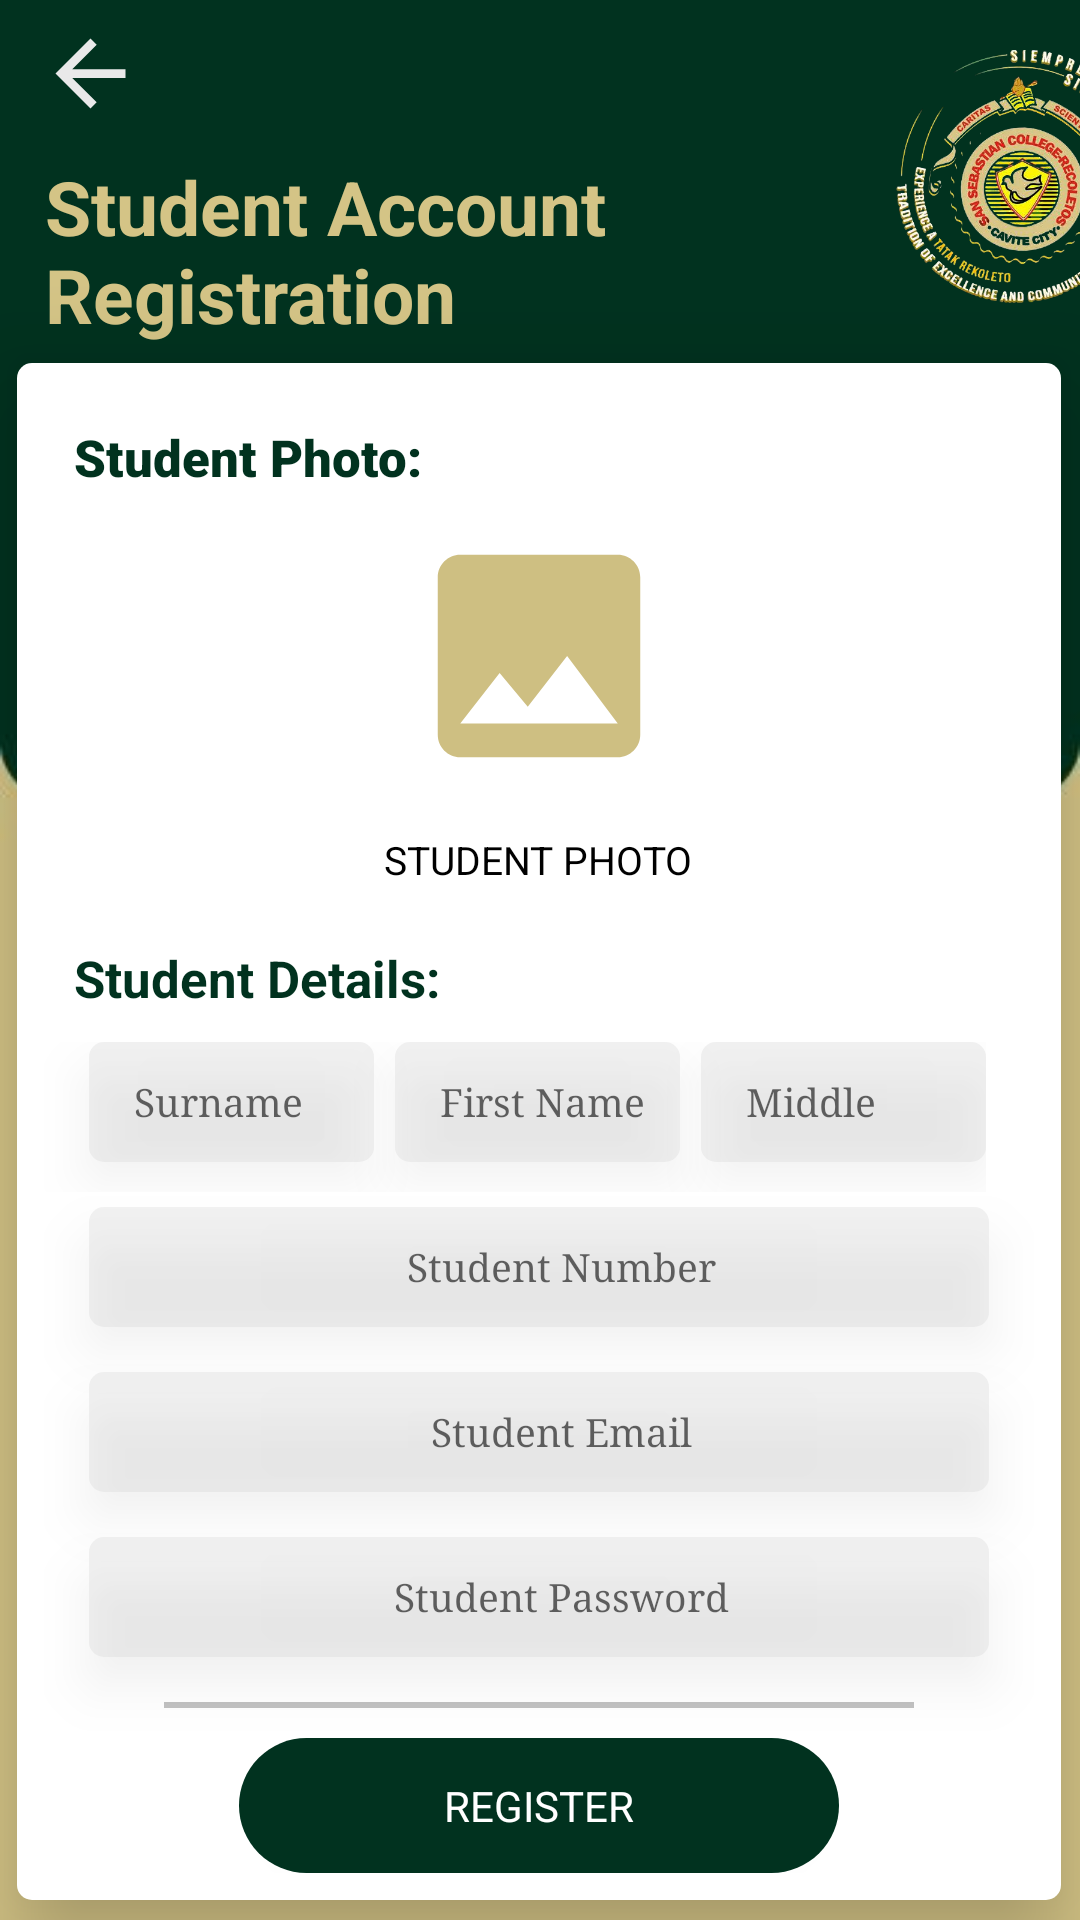

Locate icon controls on the screen. Image size 1080x1920, boxes as (x1, y1, x2, y2).
arrow back: (55, 38, 126, 109)
